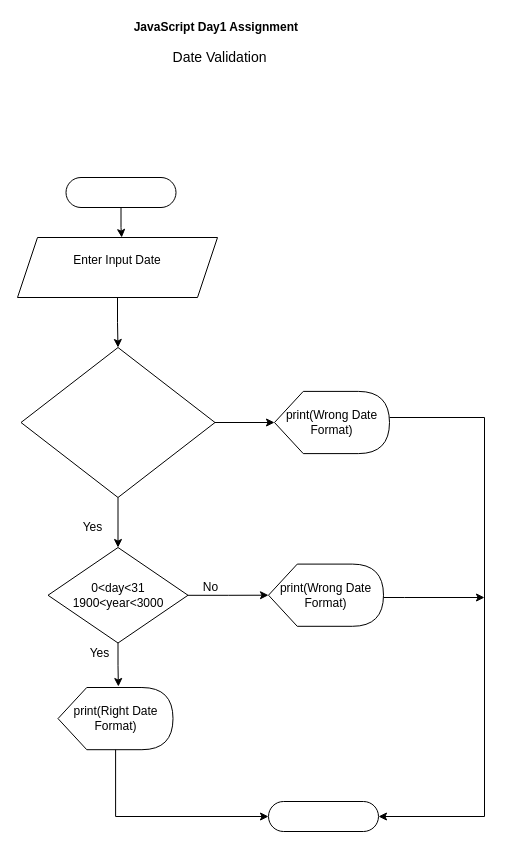
Some shapes in this 510 by 849 pixel diagram are drawn without their labels. Each missing label, with the box of its shape:
0<month<=12 and month in MM Day in DD Year in YYYY: (20, 346, 215, 498)
Start: (65, 176, 176, 208)
Stop: (268, 800, 378, 832)
